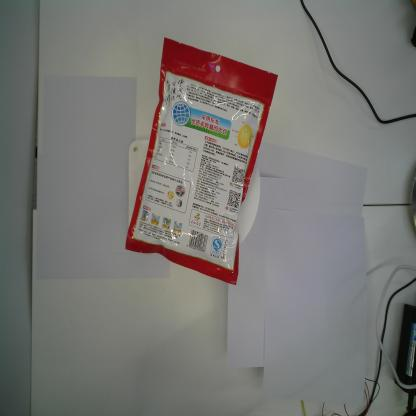Instant Drink: (123, 34, 279, 287)
